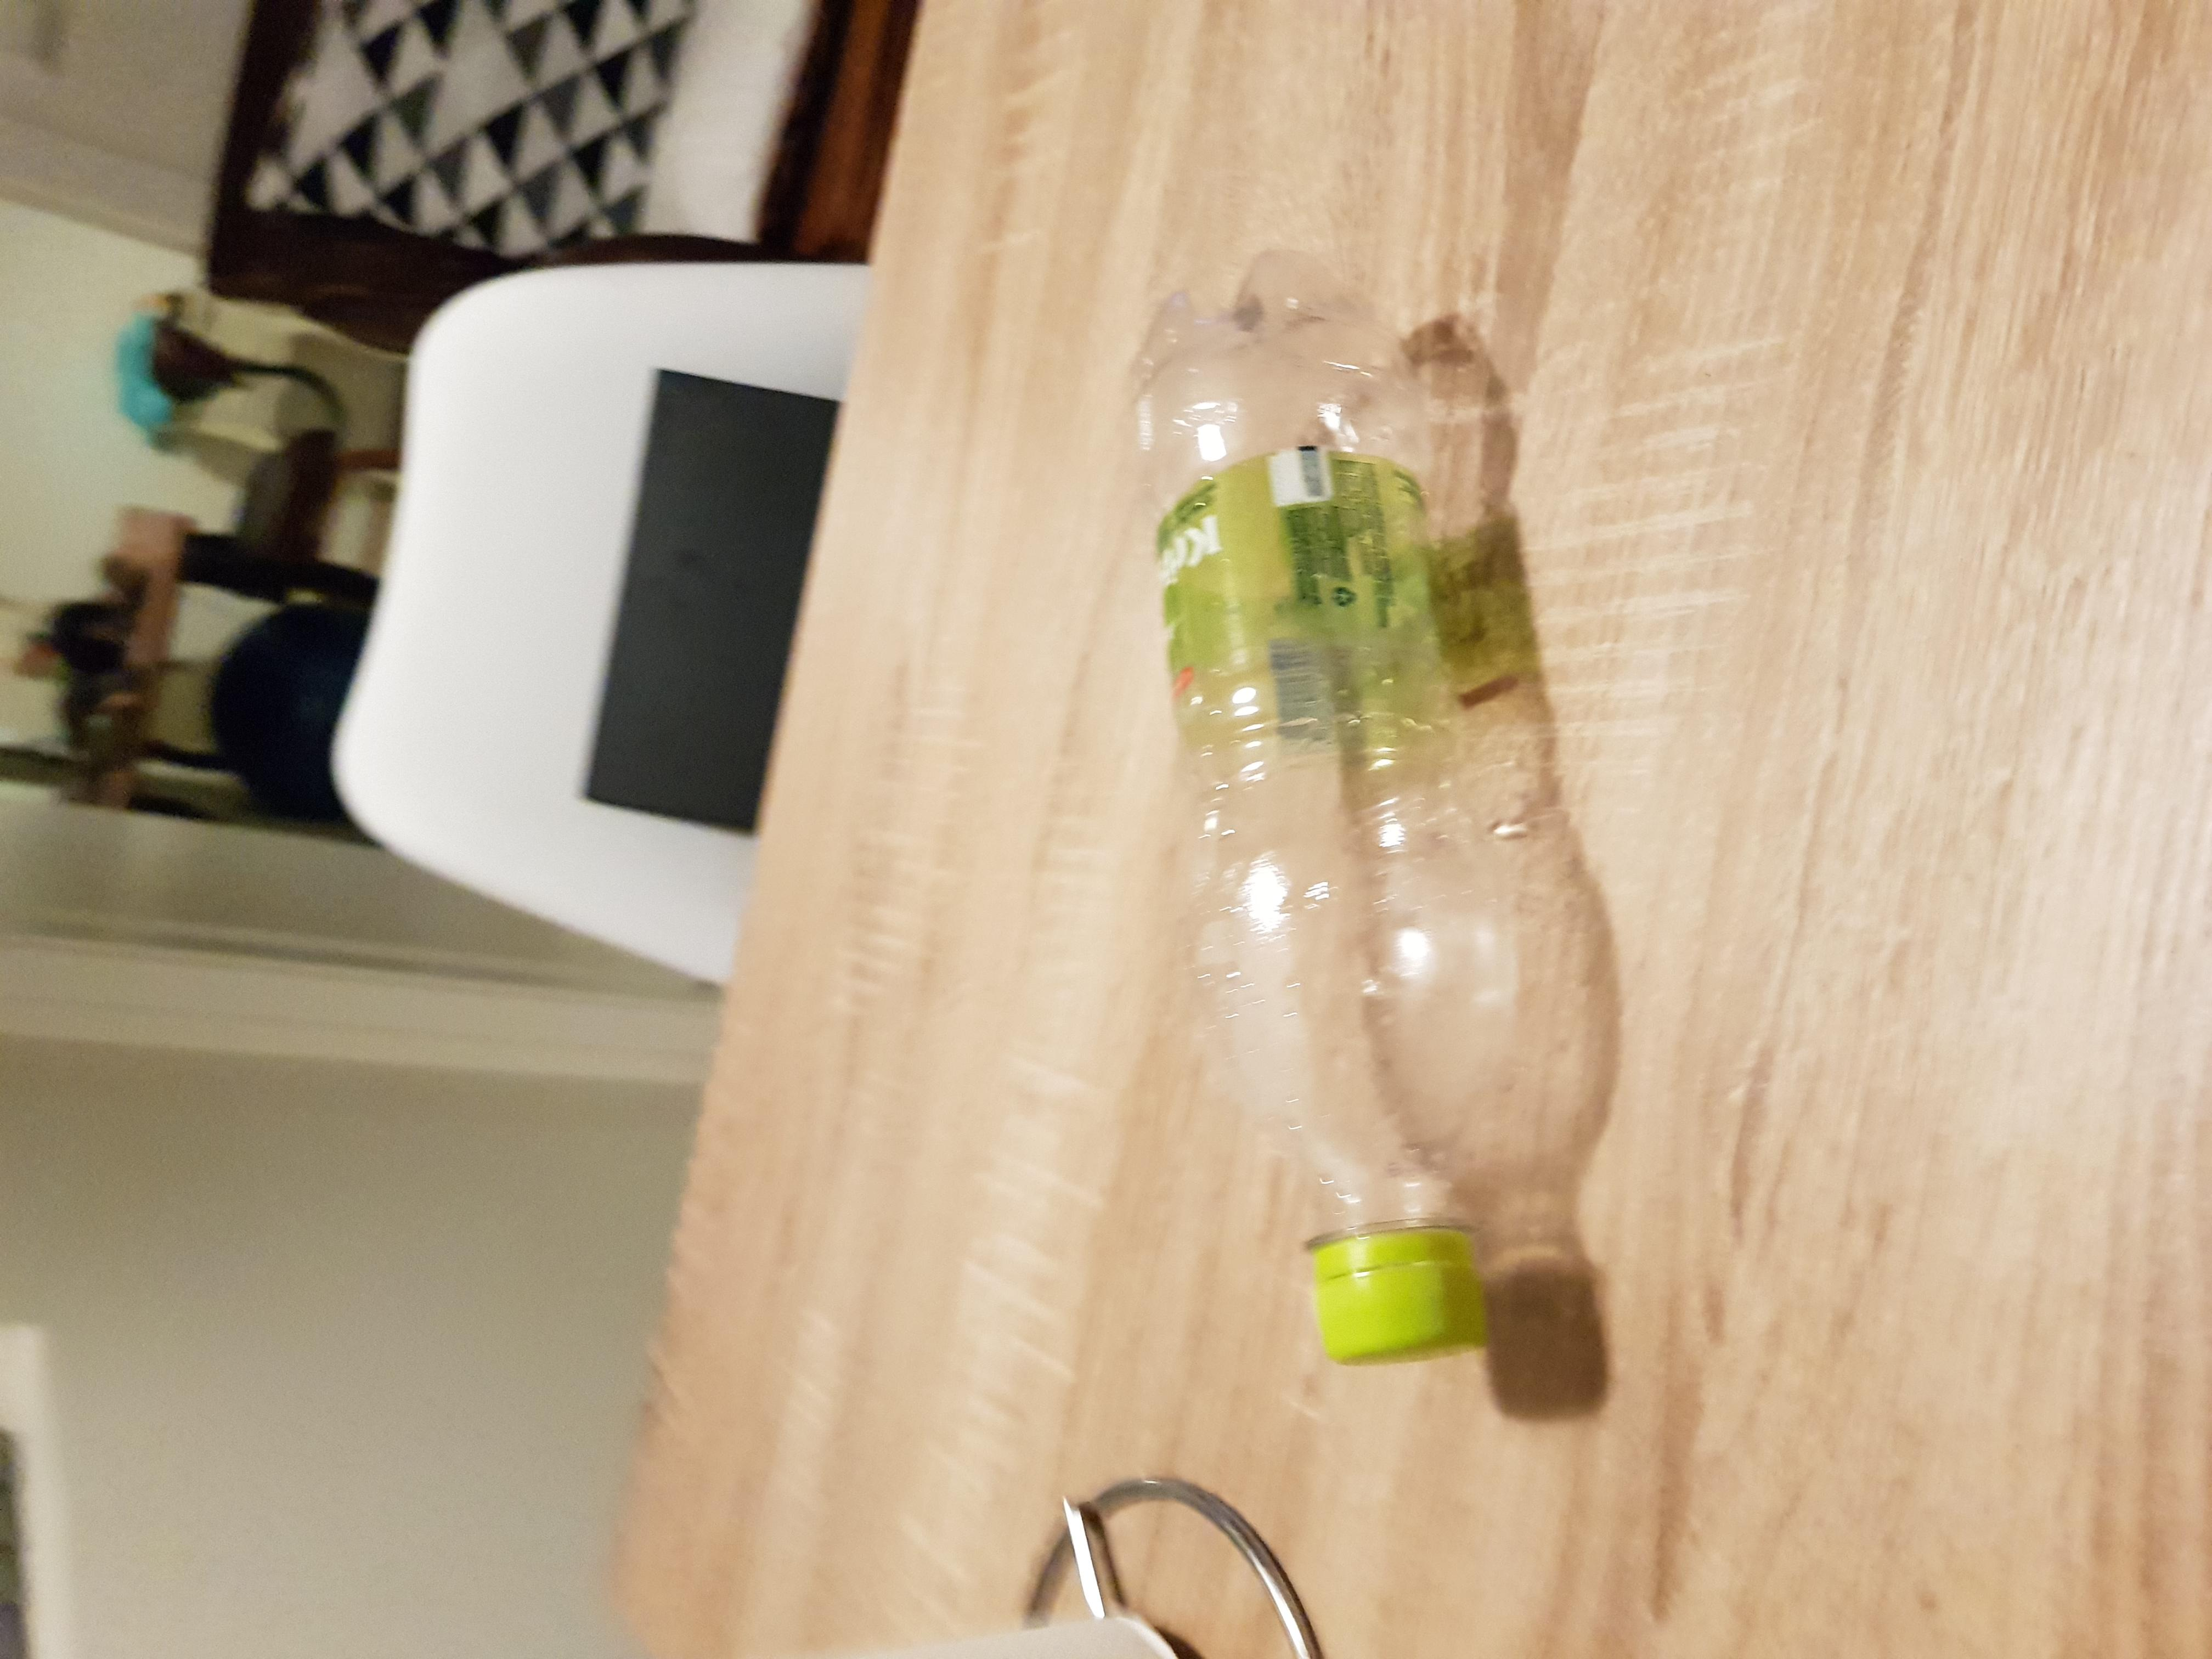Bottle: (1111, 261, 1517, 1364)
